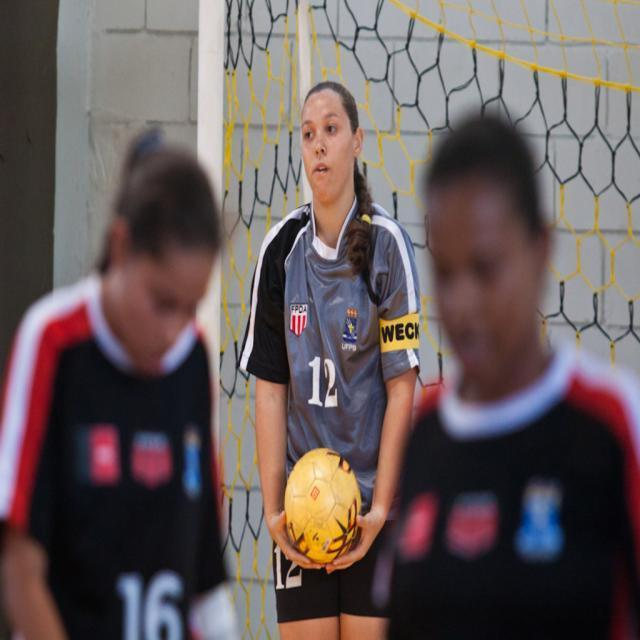football: (267, 455, 391, 568)
